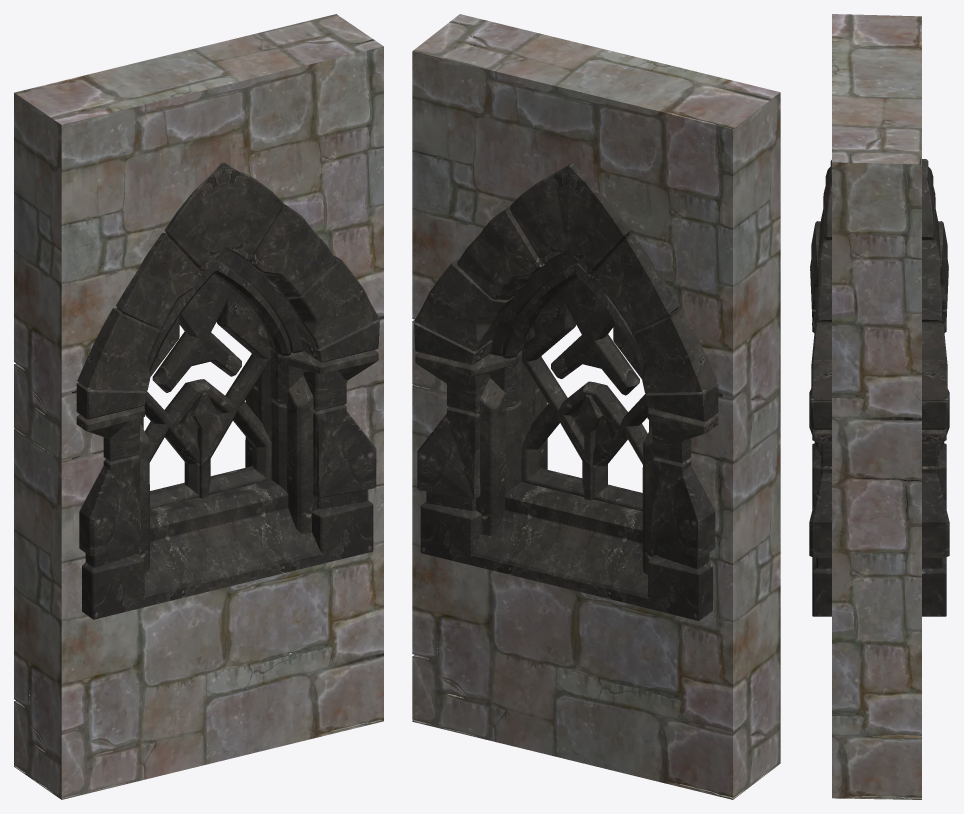
3 renders of one model, left to right at view 1: azimuth 30°, elevation 25°; view 2: azimuth 150°, elevation 25°; view 3: azimuth 270°, elevation 25°, orthographic. The views are drawn at different scales.
Visible parts, largest first — view 1: SM_BB_T3_Extended_Wall_Windowframe_Narrow_01_LOD0; view 2: SM_BB_T3_Extended_Wall_Windowframe_Narrow_01_LOD0; view 3: SM_BB_T3_Extended_Wall_Windowframe_Narrow_01_LOD0.
Boxes of the visible parts, x1=… form: SM_BB_T3_Extended_Wall_Windowframe_Narrow_01_LOD0: x1=14, y1=14, x2=383, y2=799; SM_BB_T3_Extended_Wall_Windowframe_Narrow_01_LOD0: x1=412, y1=14, x2=780, y2=799; SM_BB_T3_Extended_Wall_Windowframe_Narrow_01_LOD0: x1=809, y1=14, x2=949, y2=799.
Bounding box in the file's own units: 1.5 × 3.01 × 0.601.
2 materials, 2 textured.
